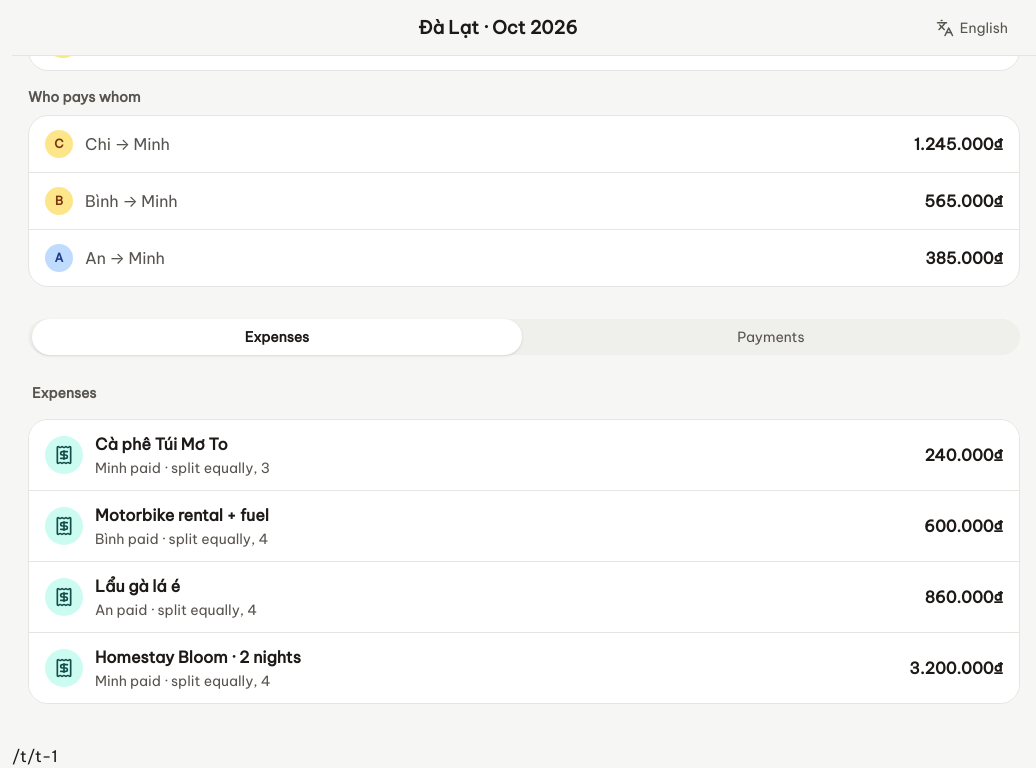
Test: view-only page › on a phone an expense opens as a read-only page
(page scrolled)
Click the button "Lẩu gà lá é An paid · split equally, 4 860.000₫". click: [64, 597]
box: [29,562,1019,632]
(page scrolled)
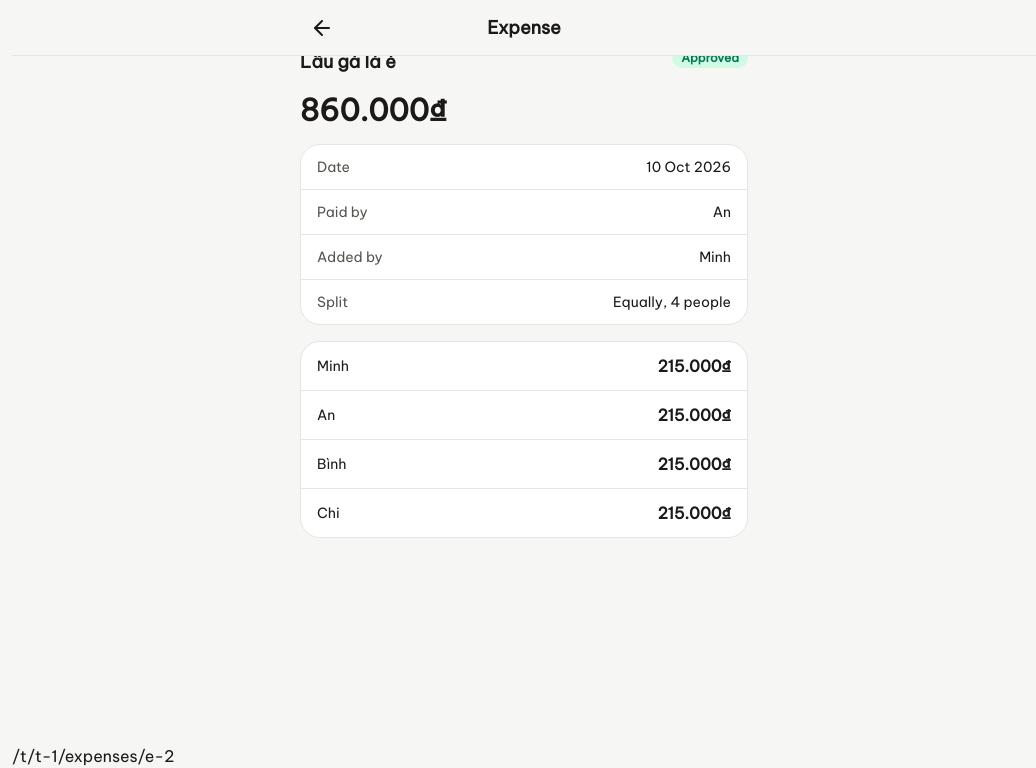
Expected: the heading "Lẩu gà lá é" is shown, [300,48,396,76]
Expected: the button named "Back" is shown, [300,6,344,50]
